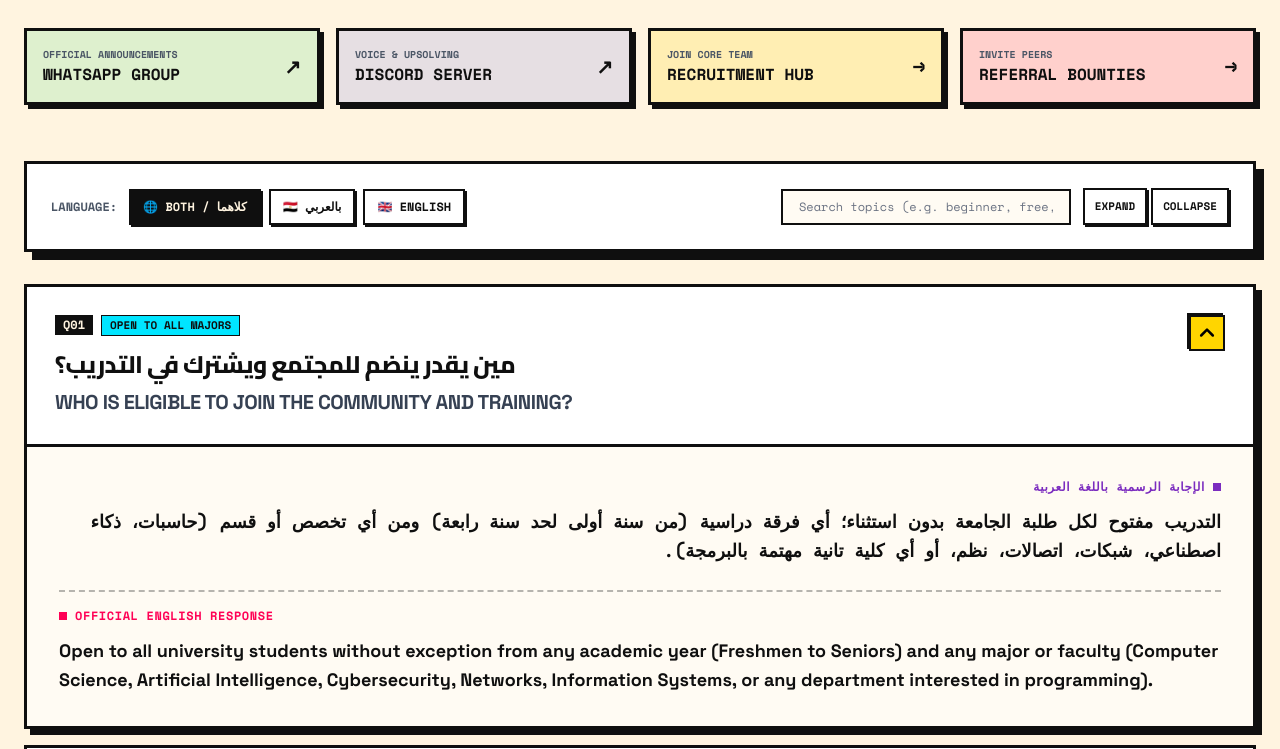
FAQPage › collapses an expanded answer when its question is toggled
This screenshot has width=1280, height=749.
(page scrolled)
Expected: the text "Open to all university students without exception from any academic year (Freshmen to Seniors) and any major or faculty " is shown, 59,639 -> 1218,691
Click the heading "Who is eligible to join the community and training?": [314, 402] box 55,389 -> 572,415
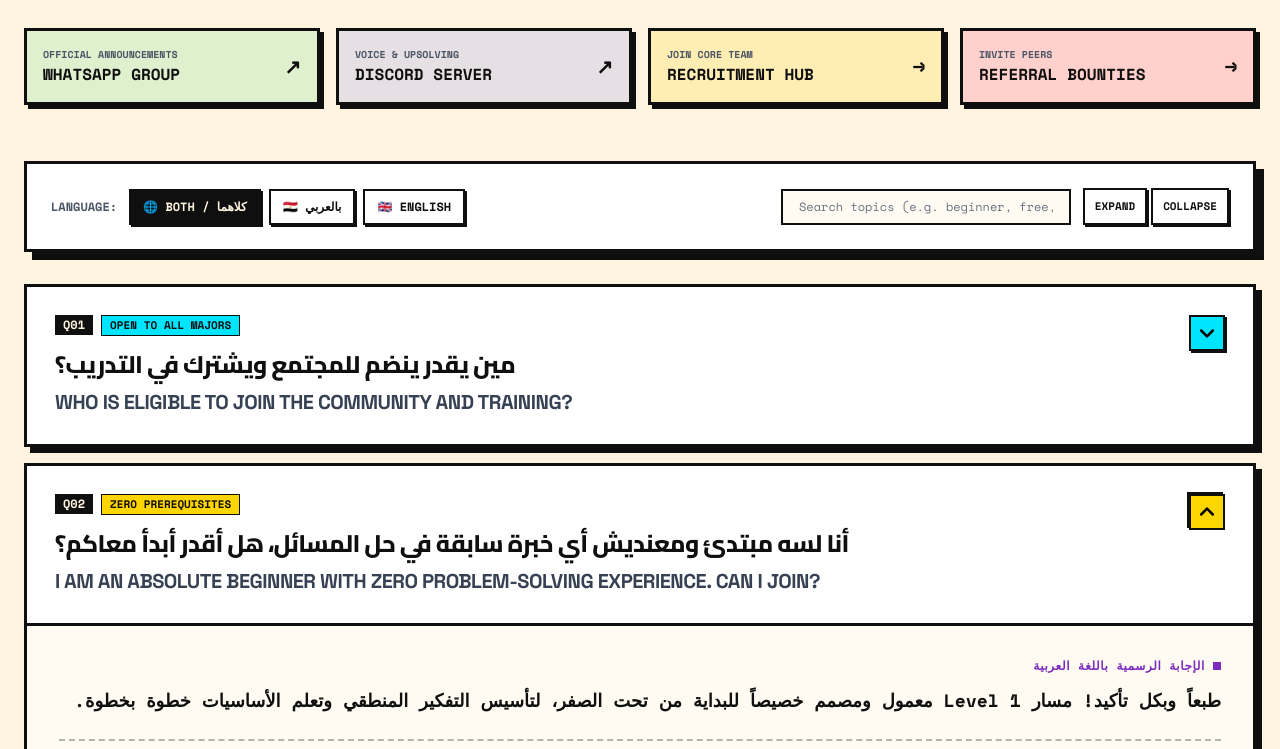
Expected: the text "Open to all university students without exception from any academic year (Freshmen to Seniors) and any major or faculty " is gone
